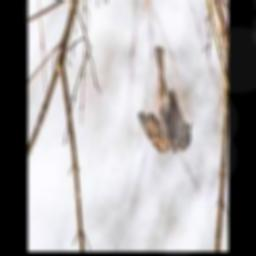Sparrow: (137, 46, 191, 154)
